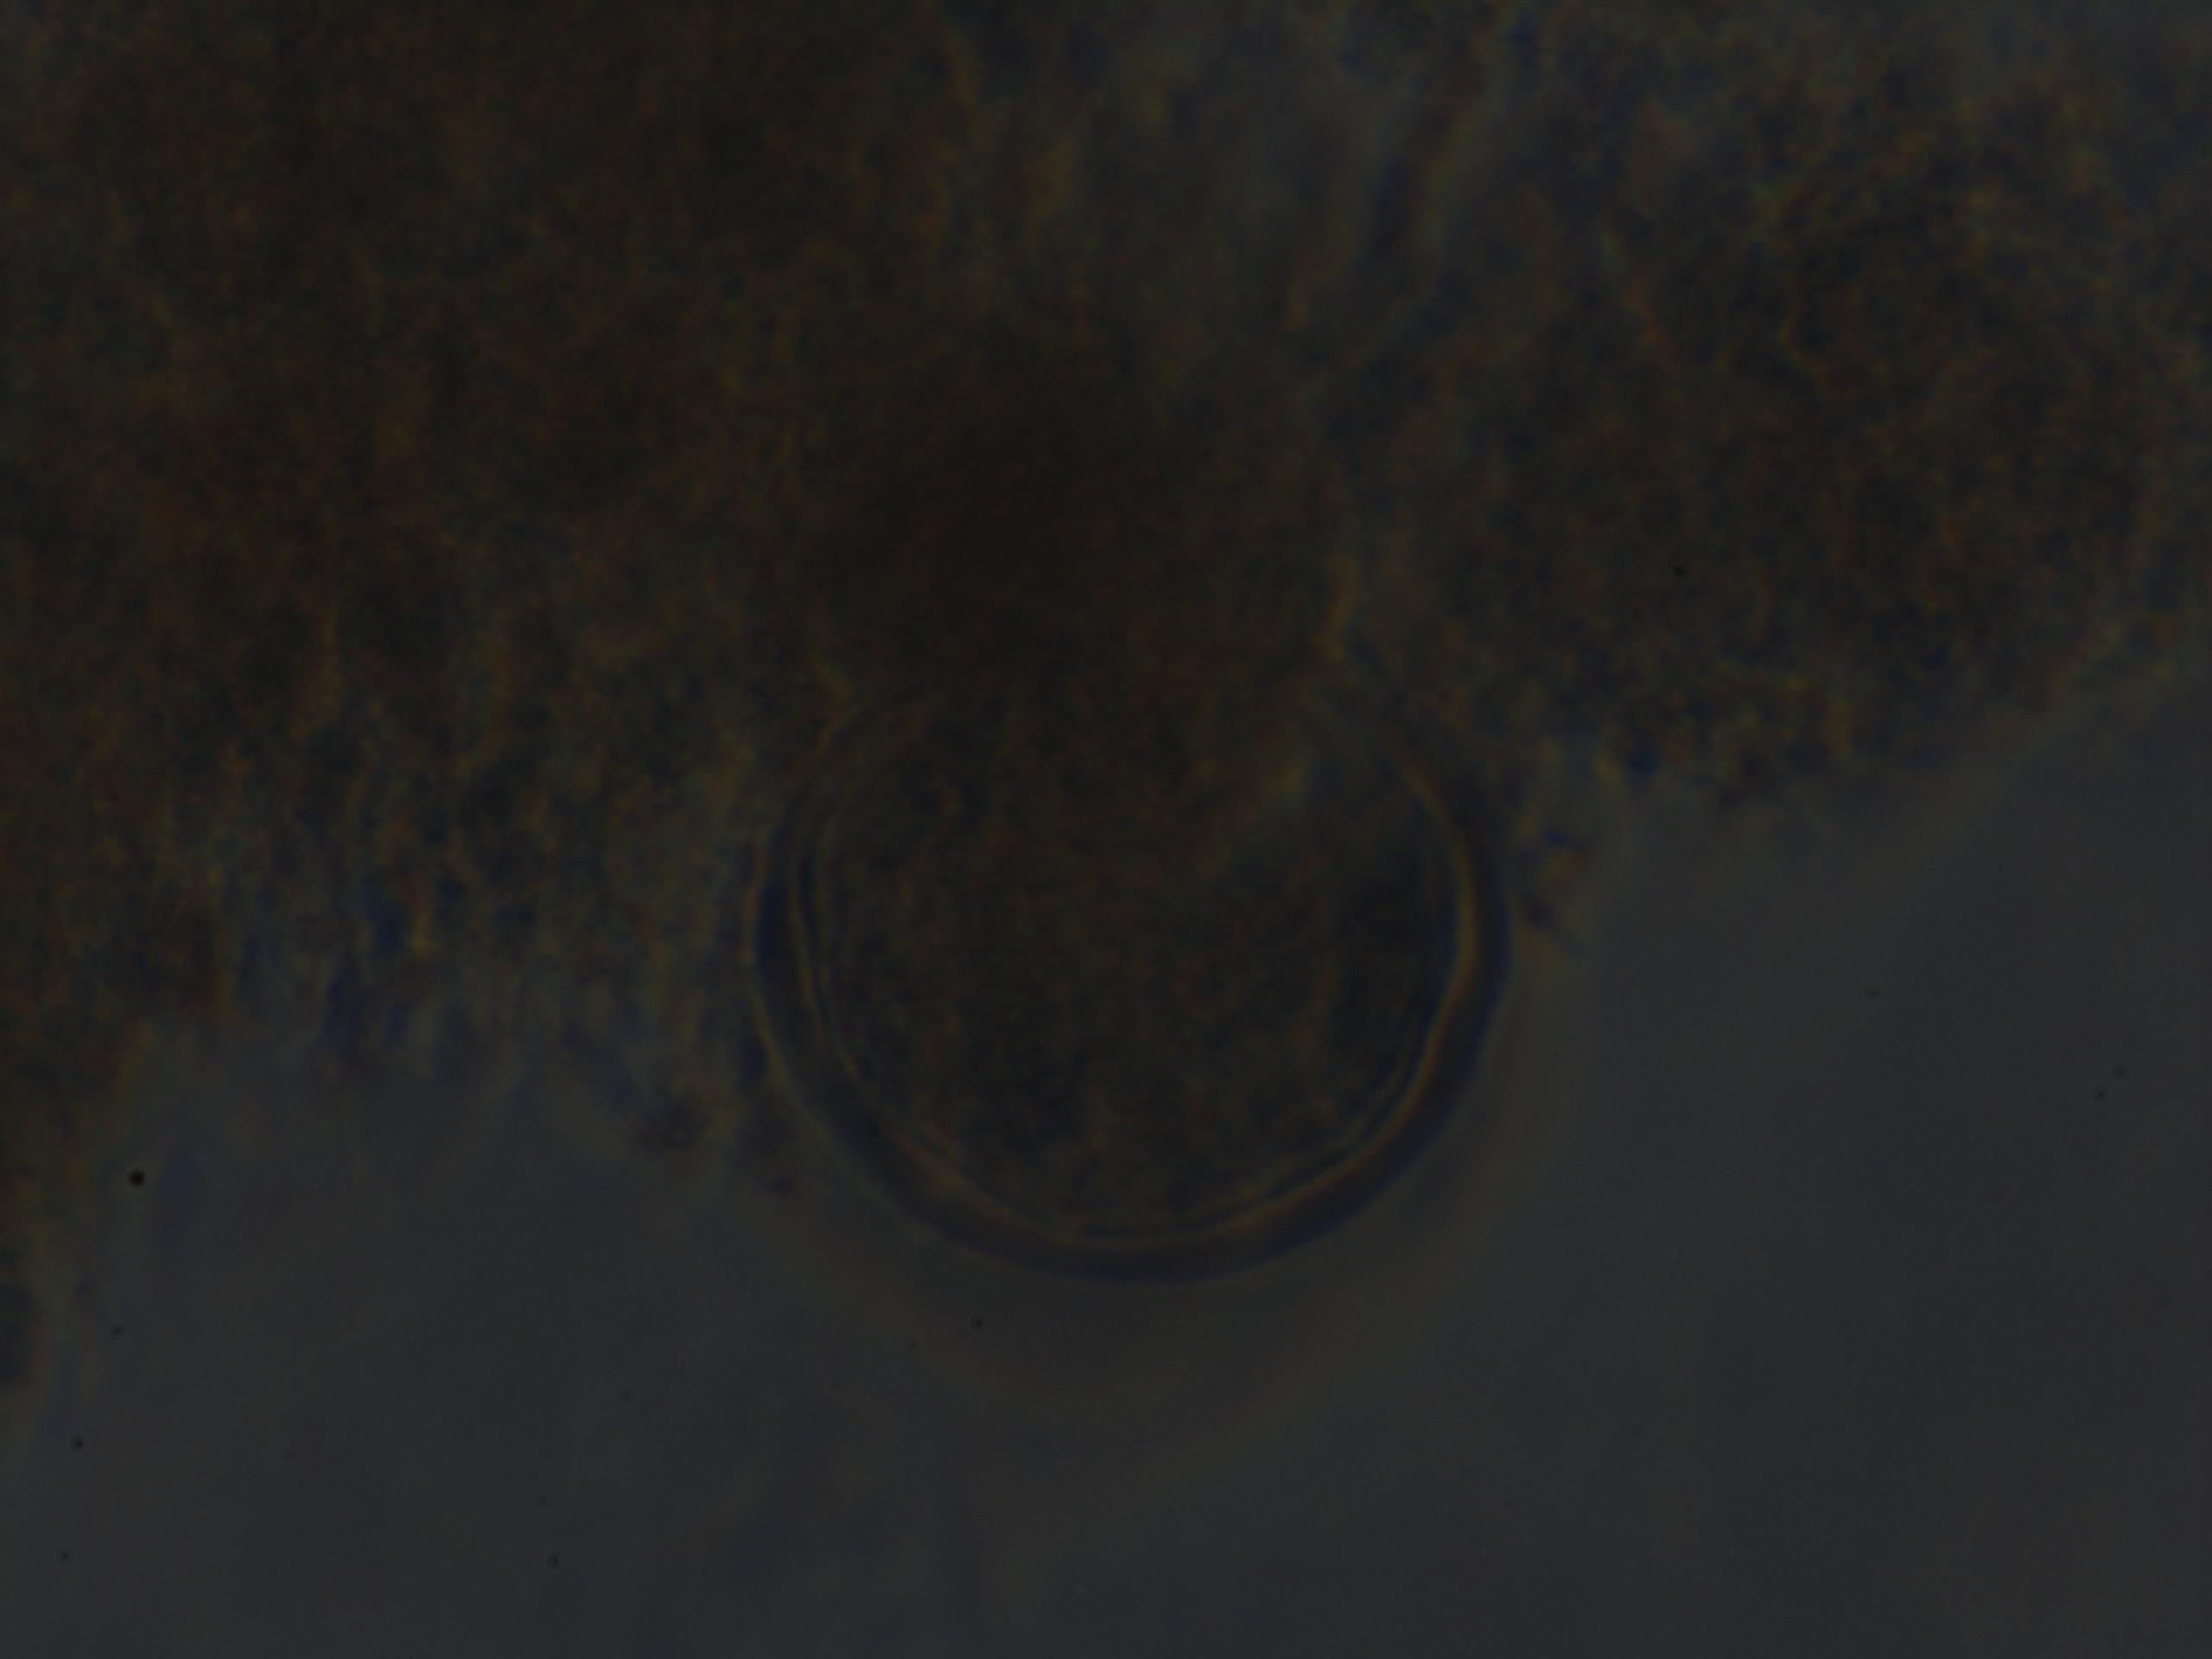protozoa: (737, 634, 1533, 1387)
